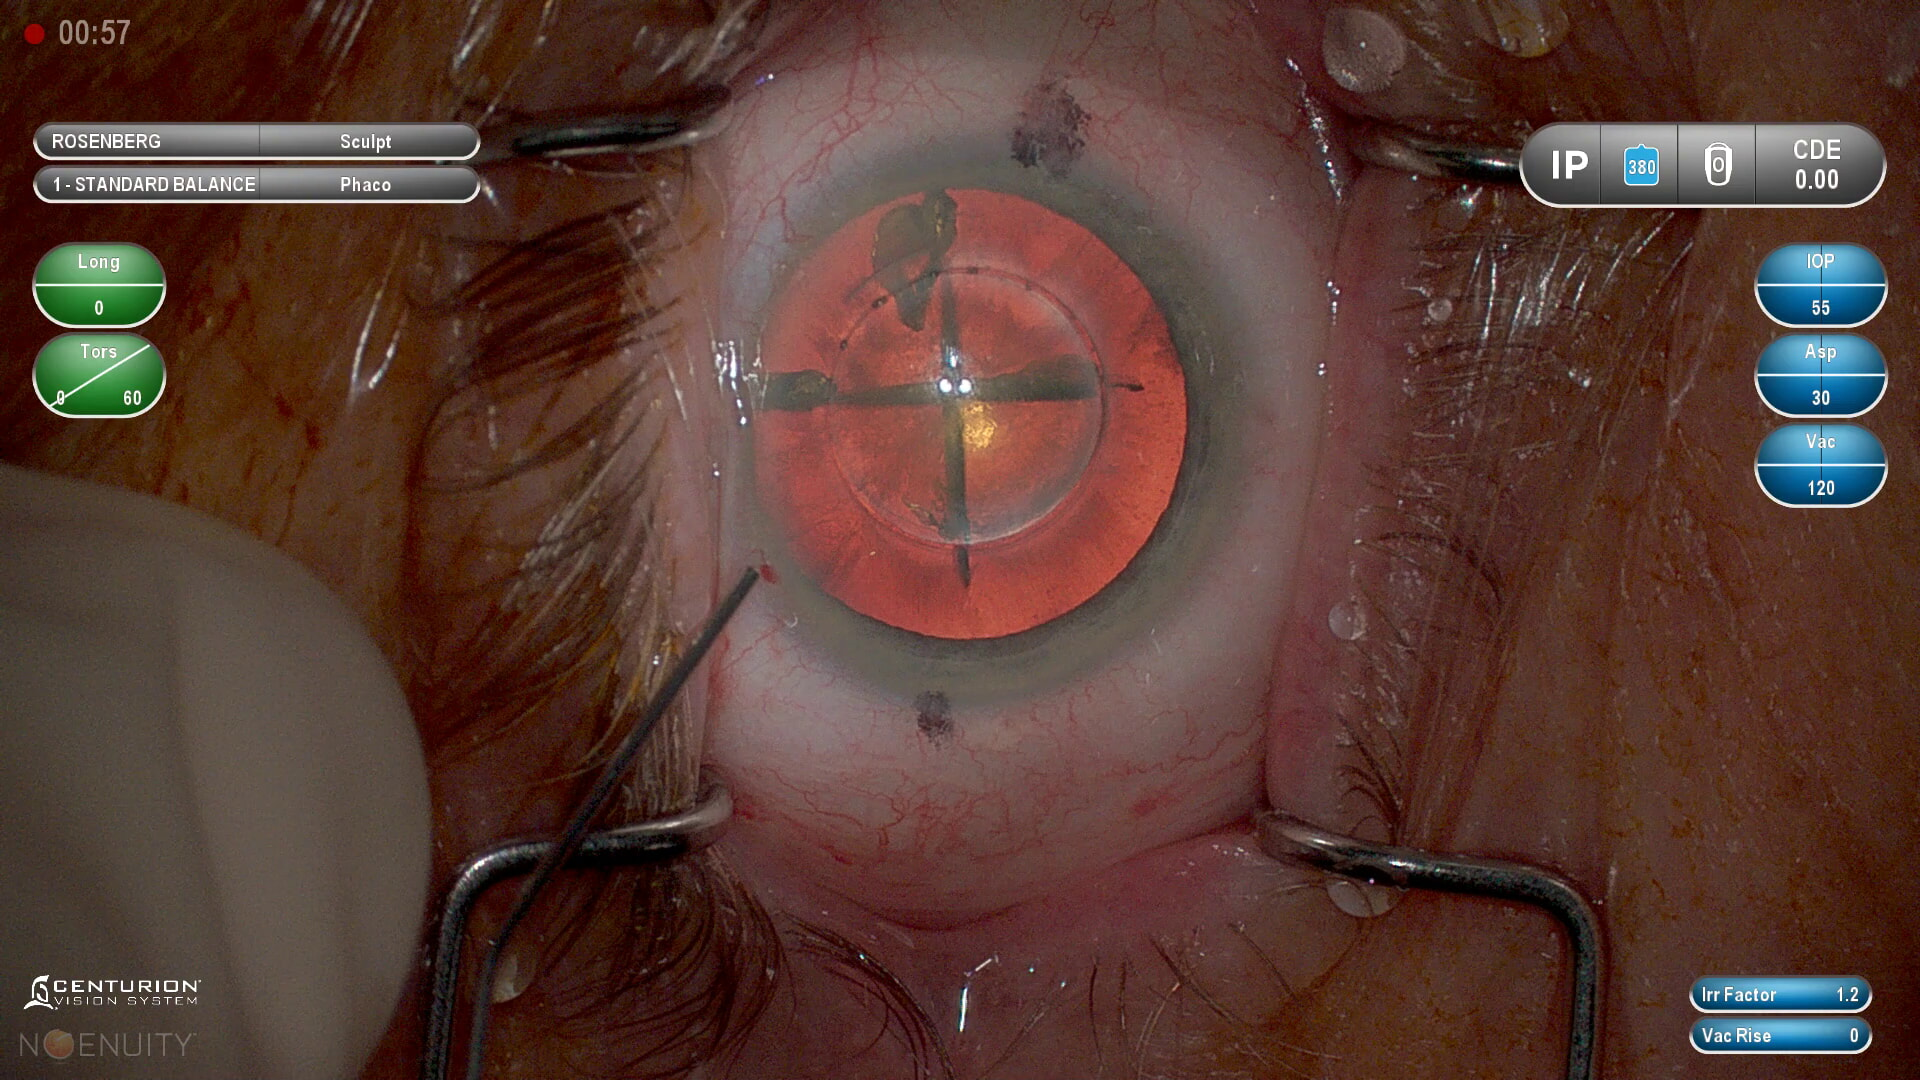iris: (732, 139, 1244, 707)
pupil: (747, 187, 1194, 641)
